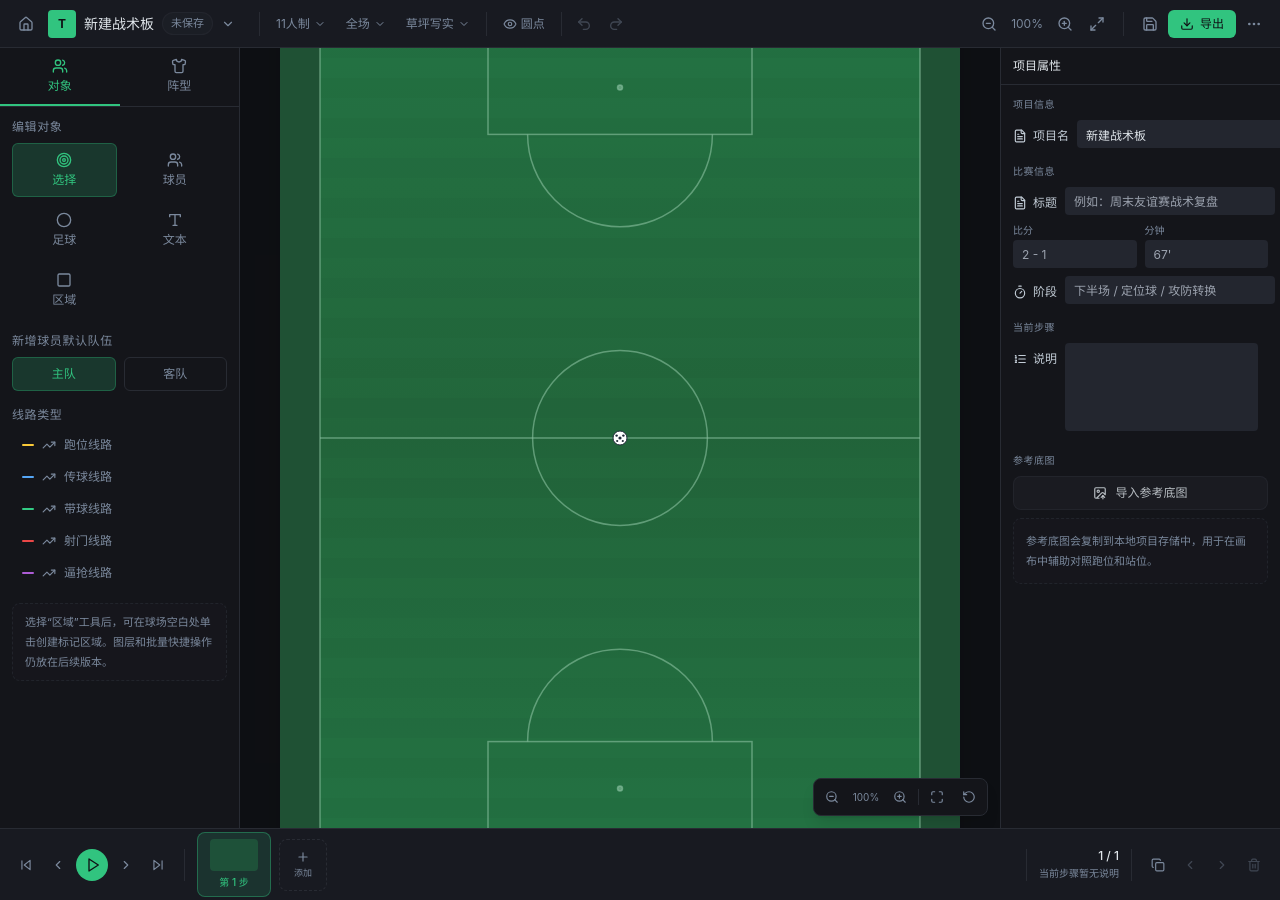
Test: editor save and return flow › keeps a first-saved project clean when returning from the workbench
The image size is (1280, 900).
Click the button named "保存项目" at [1150, 24], box x1=1136 y1=10 x2=1164 y2=38
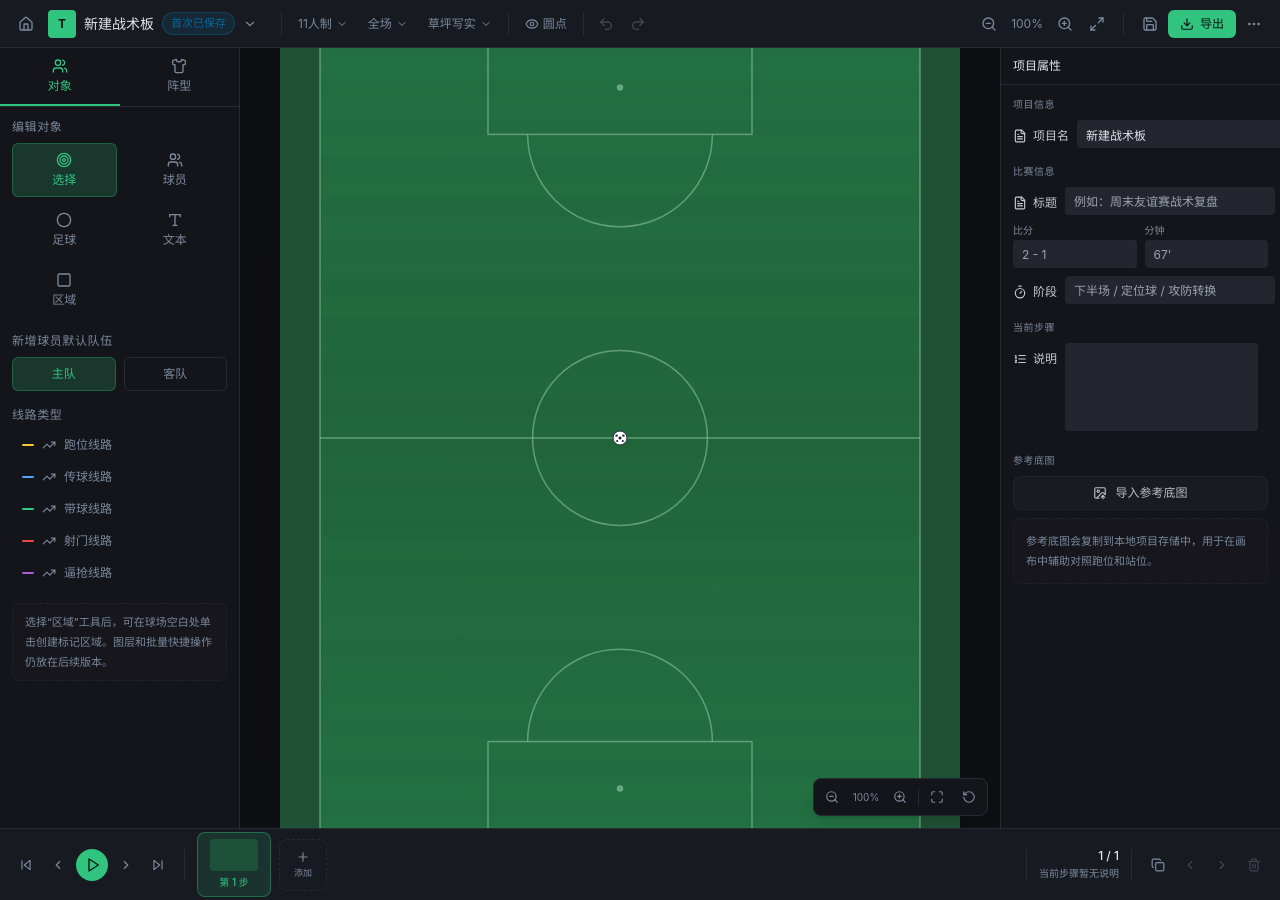
Now the text "首次已保存" is shown, box x1=162 y1=12 x2=235 y2=35
Click the button named "返回工作台" at [26, 24], box x1=12 y1=10 x2=40 y2=38
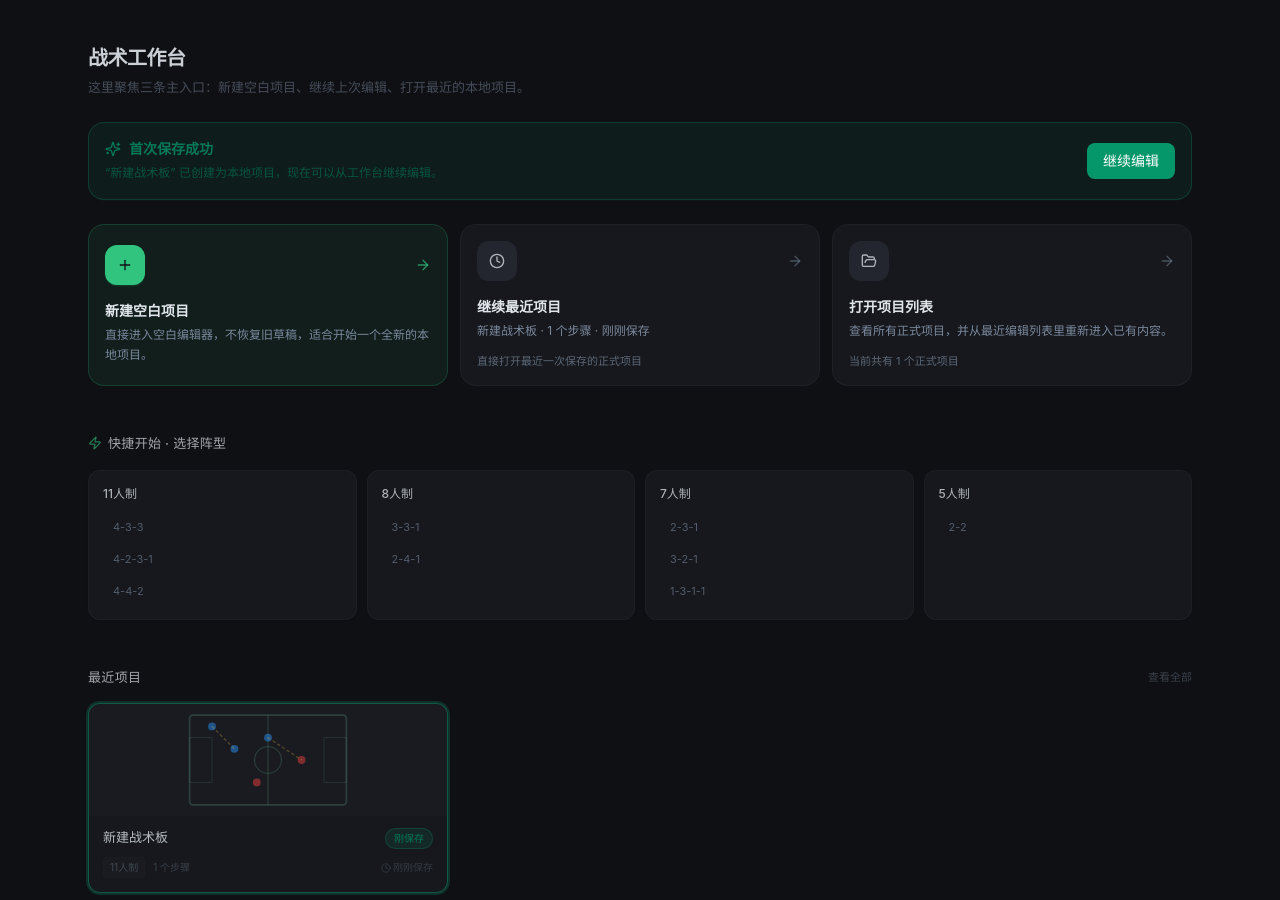
Now the text "首次保存成功" is shown, box x1=105 y1=140 x2=213 y2=156
Click the button "继续编辑" at [1131, 160], box x1=1087 y1=142 x2=1175 y2=178
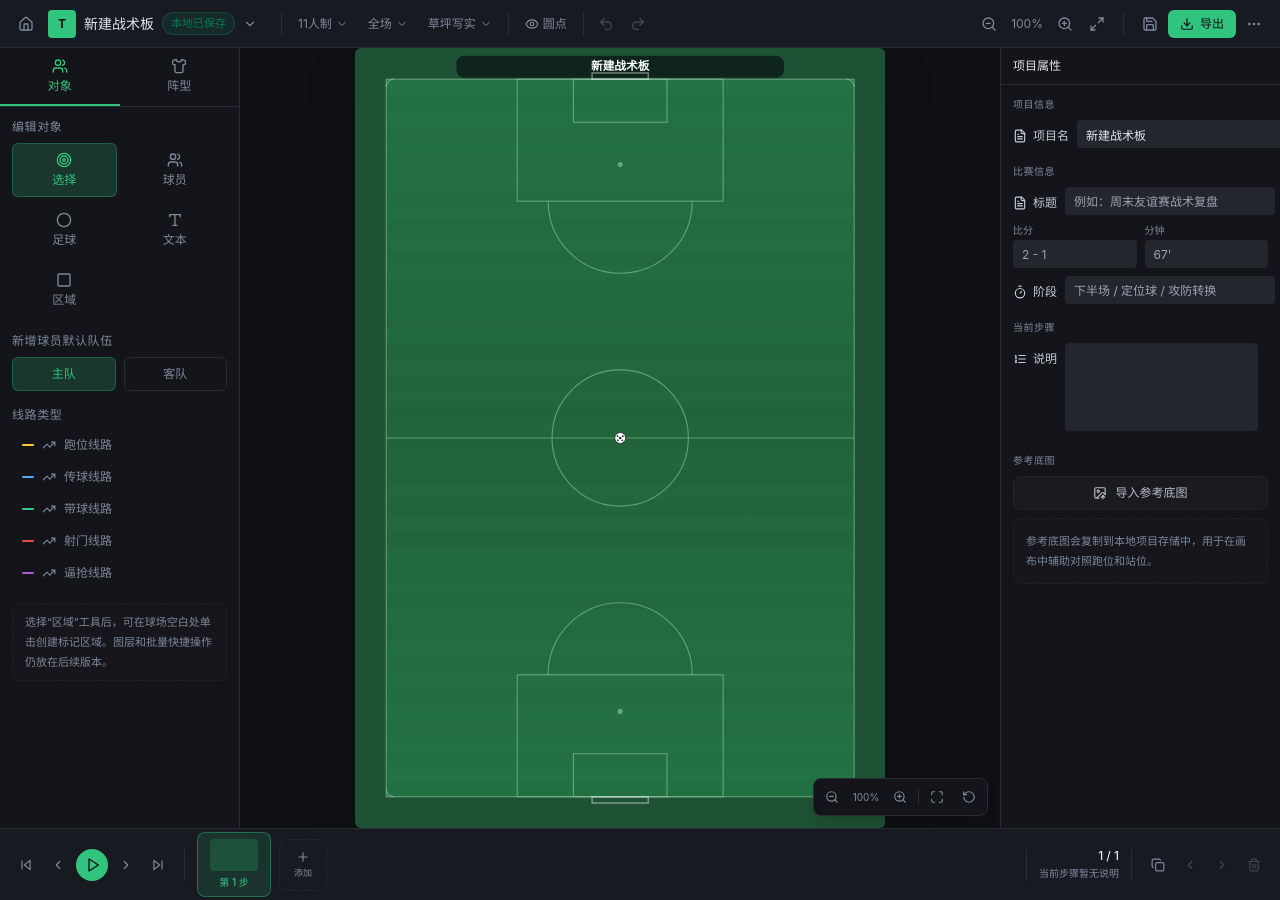
Now the text "本地已保存" is shown, box x1=162 y1=12 x2=235 y2=35
Click the button named "返回工作台" at [26, 24], box x1=12 y1=10 x2=40 y2=38
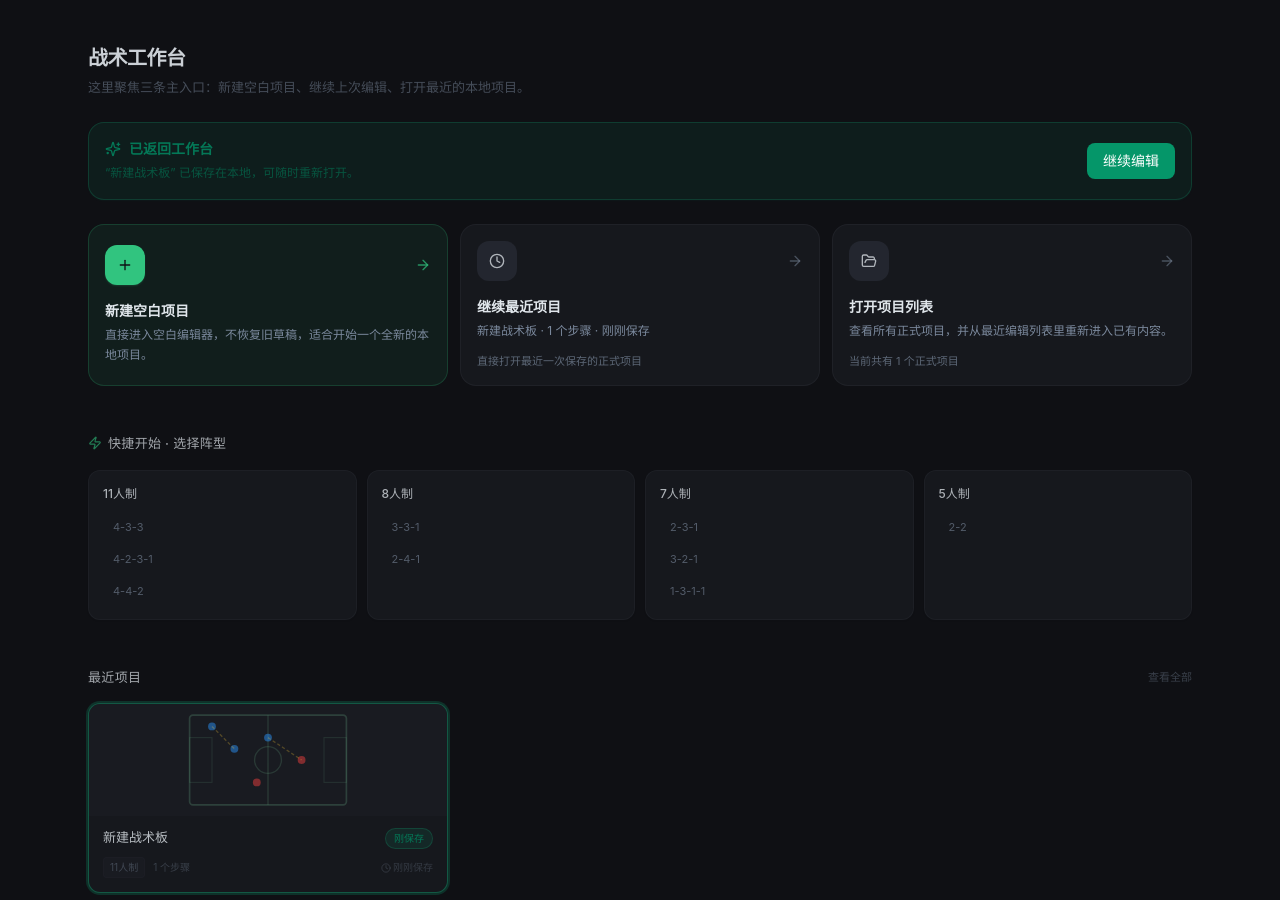
Now the text "已返回工作台" is shown, box x1=105 y1=140 x2=213 y2=156
Click the button "继续编辑" at [1131, 160], box x1=1087 y1=142 x2=1175 y2=178
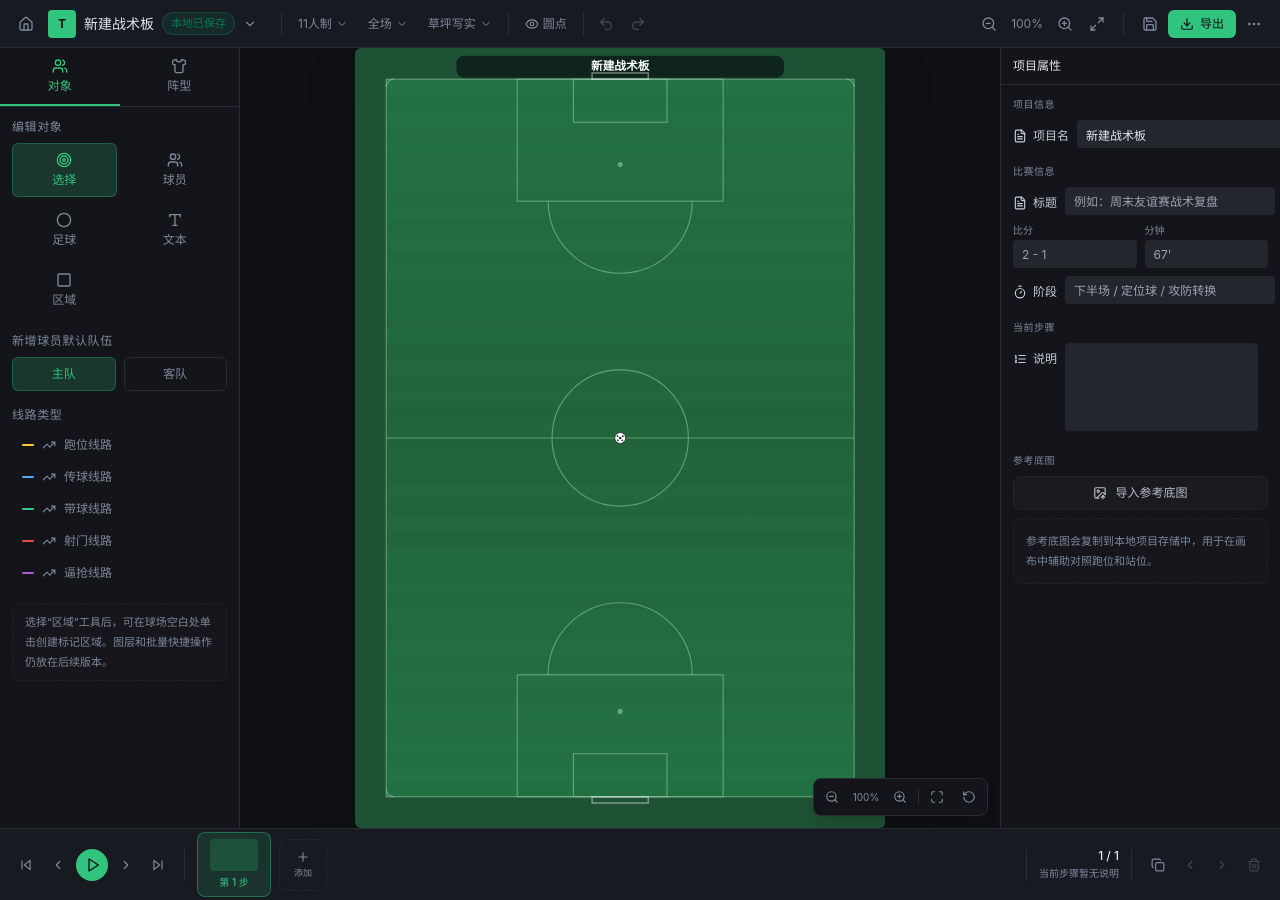
Now the text "本地已保存" is shown, box x1=162 y1=12 x2=235 y2=35
